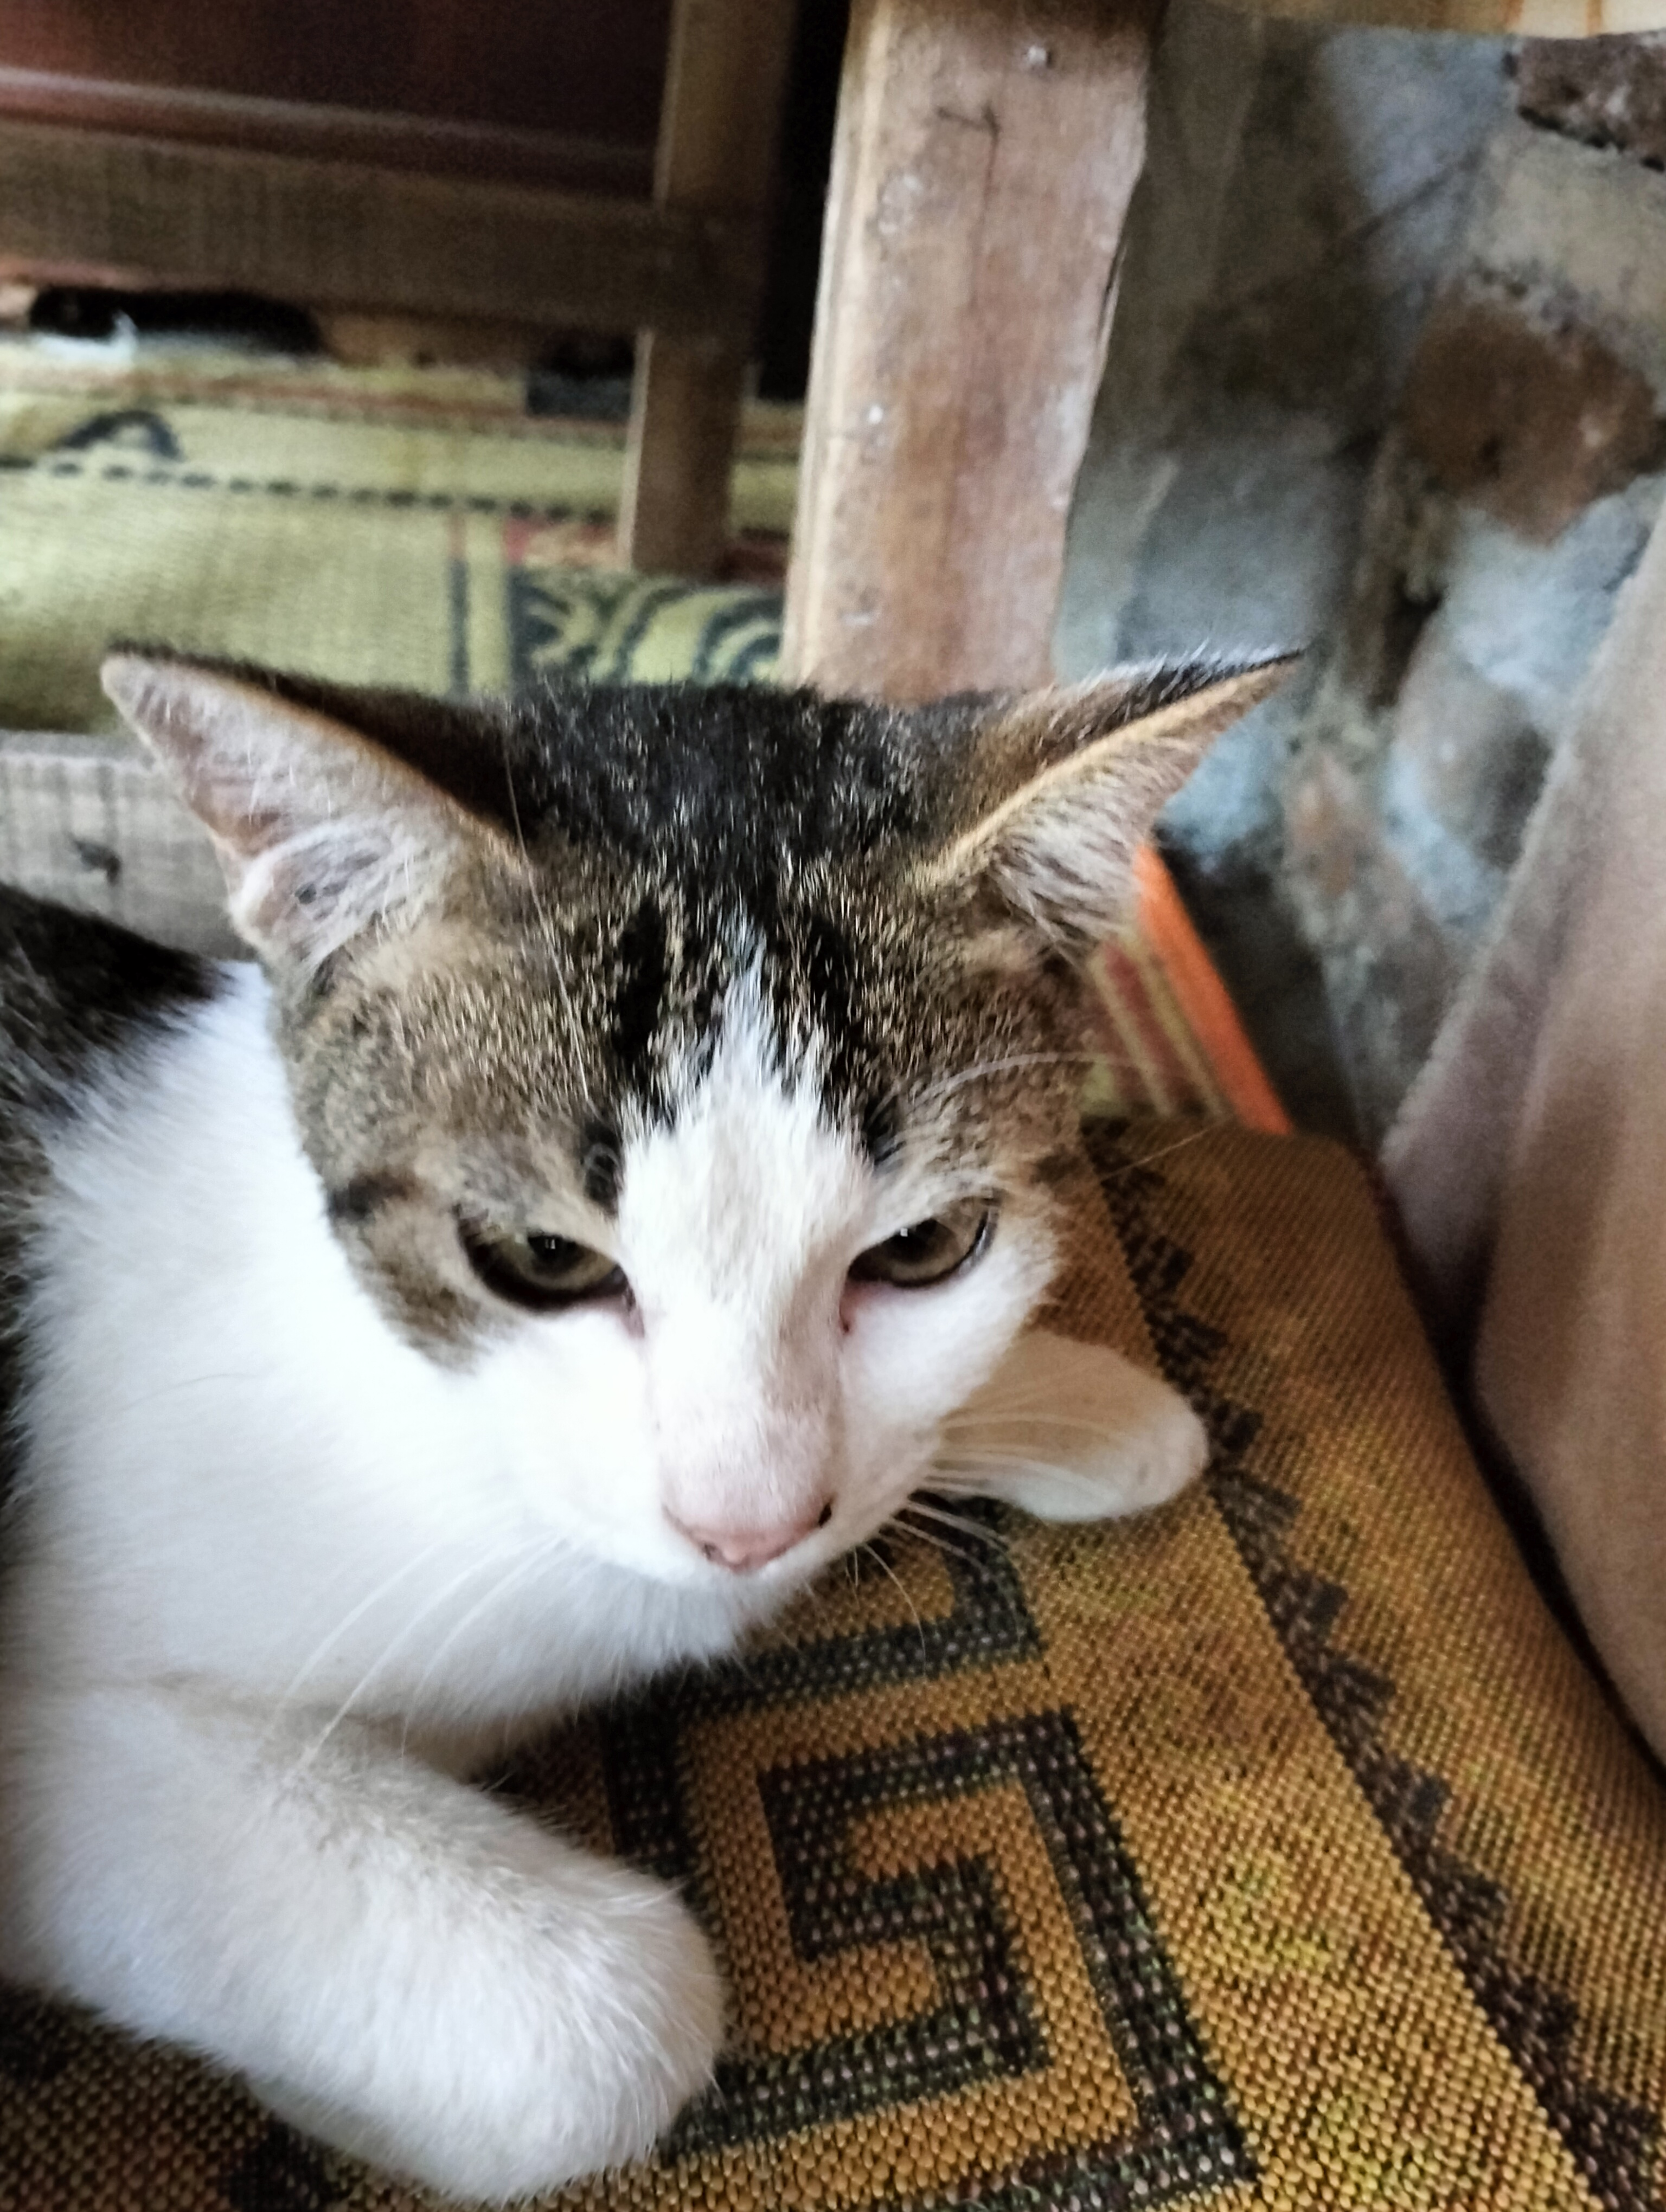miki: (62, 593, 1353, 1656)
